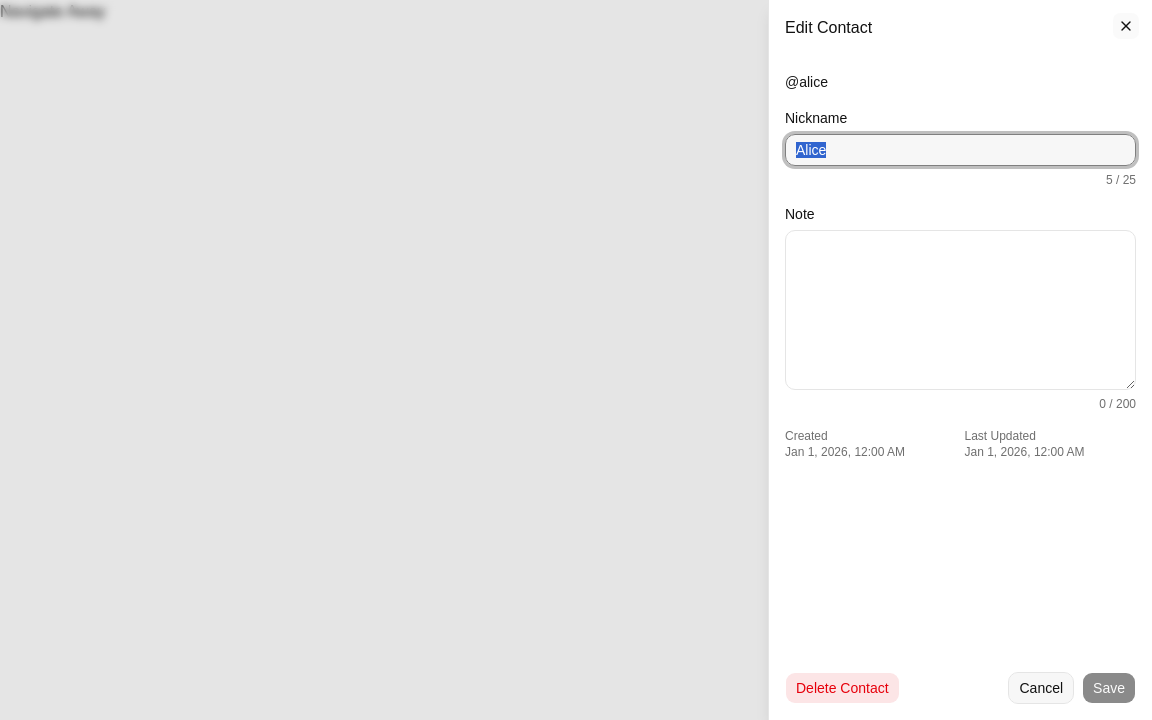
it: ContactEditDrawer: editing and validation › disables Save until the form becomes dirty
This screenshot has width=1152, height=720.
Expected: the button "Save" is disabled, x1=1082 y1=672 x2=1136 y2=704
Replace the text in the field labelled "Nickname" with "Ally" at point(960, 150), box x1=785 y1=134 x2=1136 y2=166
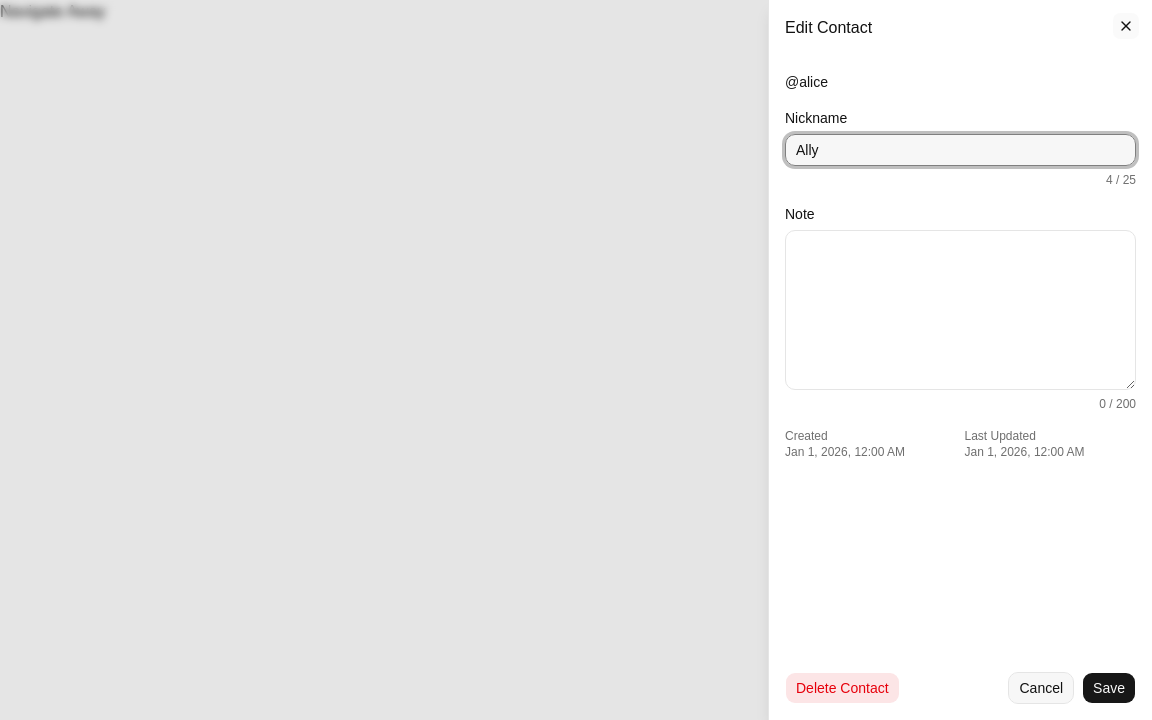
Expected: the button "Save" is enabled, x1=1082 y1=672 x2=1136 y2=704
